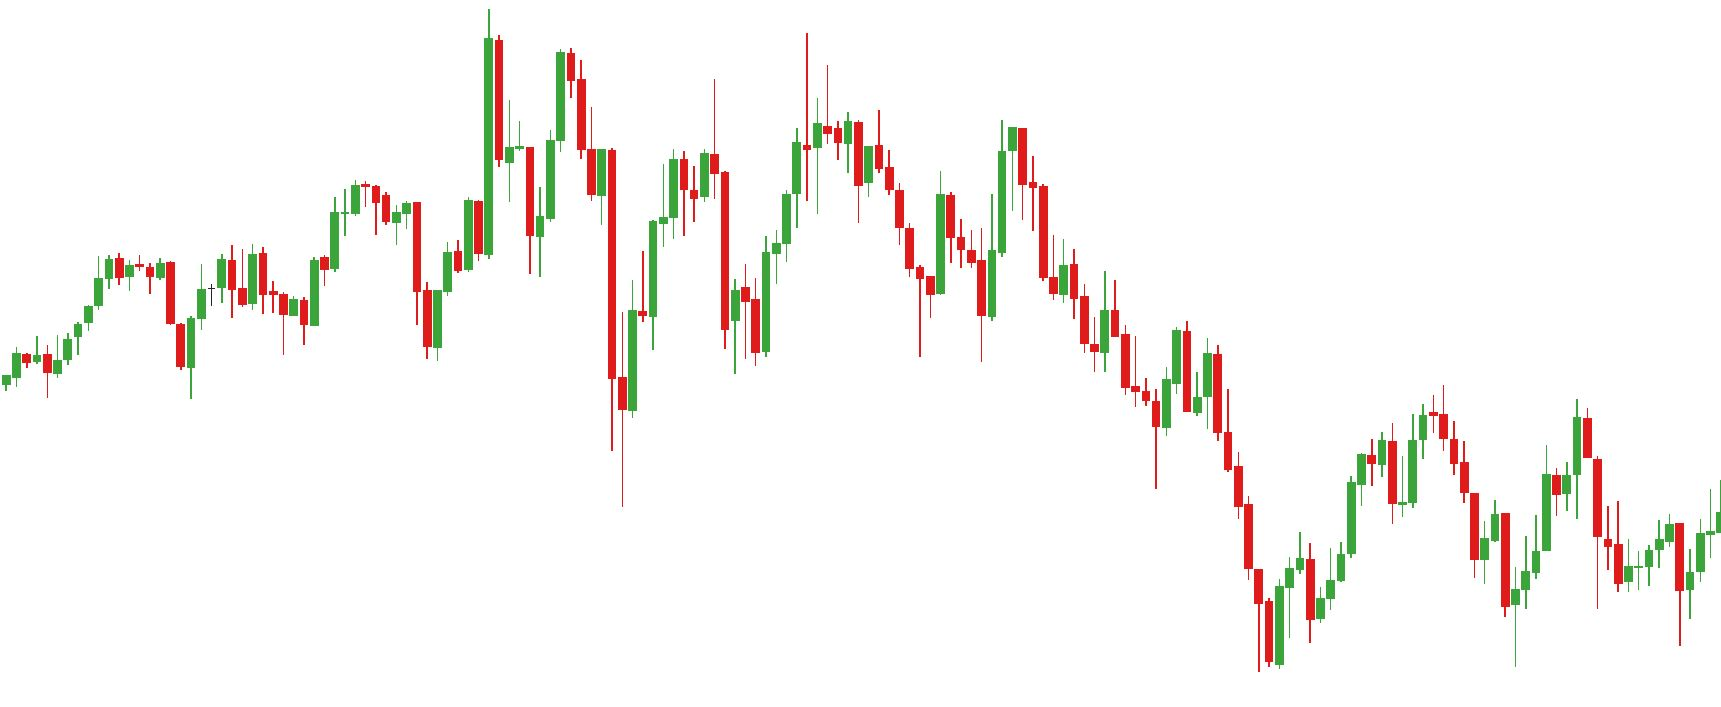buy: (275, 239, 445, 363), (914, 235, 994, 367)
sell: (709, 34, 811, 227), (936, 122, 1028, 227)
